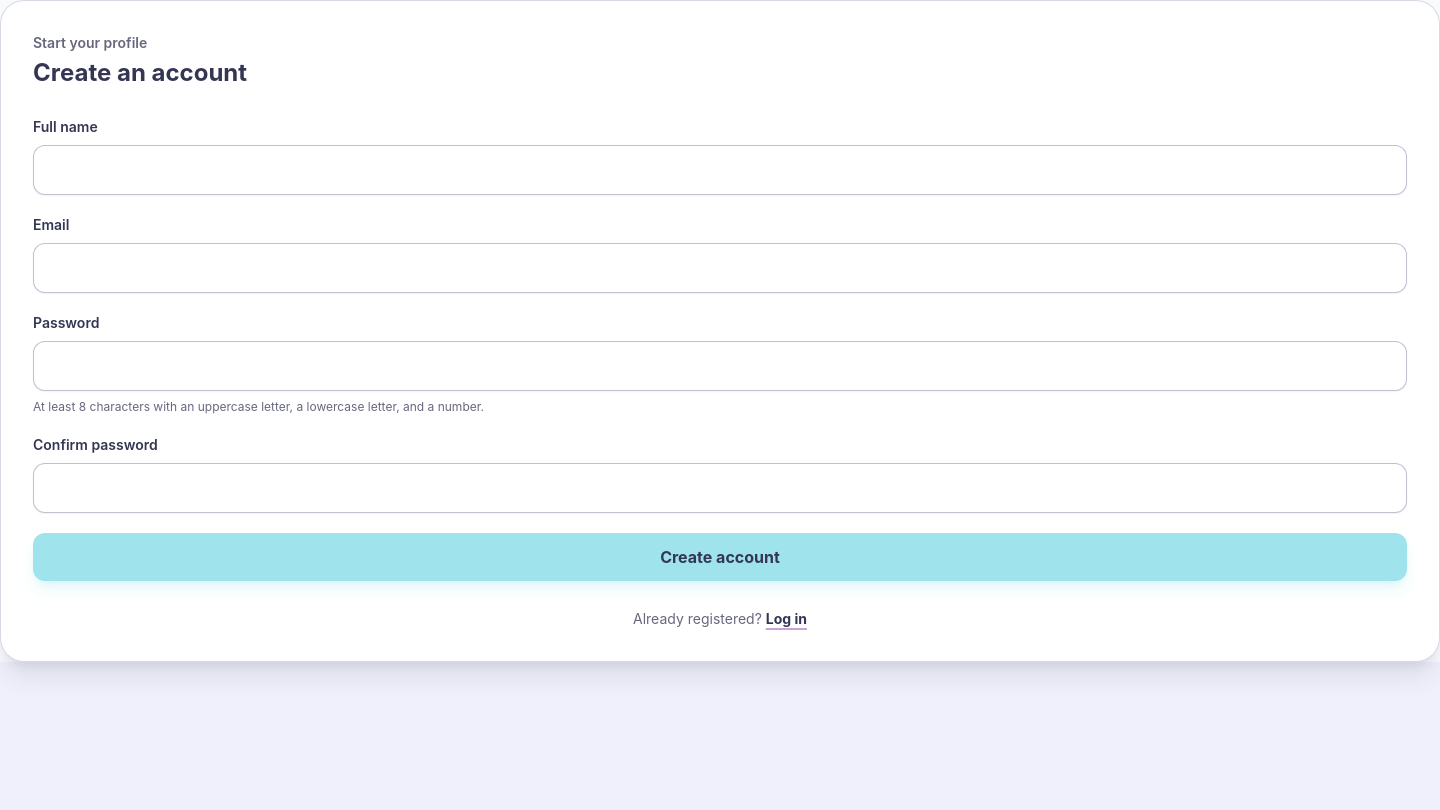
Test: authentication forms › validates signup password rules and confirmation
This screenshot has width=1440, height=810.
In the field labelled "Full name": (720, 170) [33,145,1407,195], type "New Member"
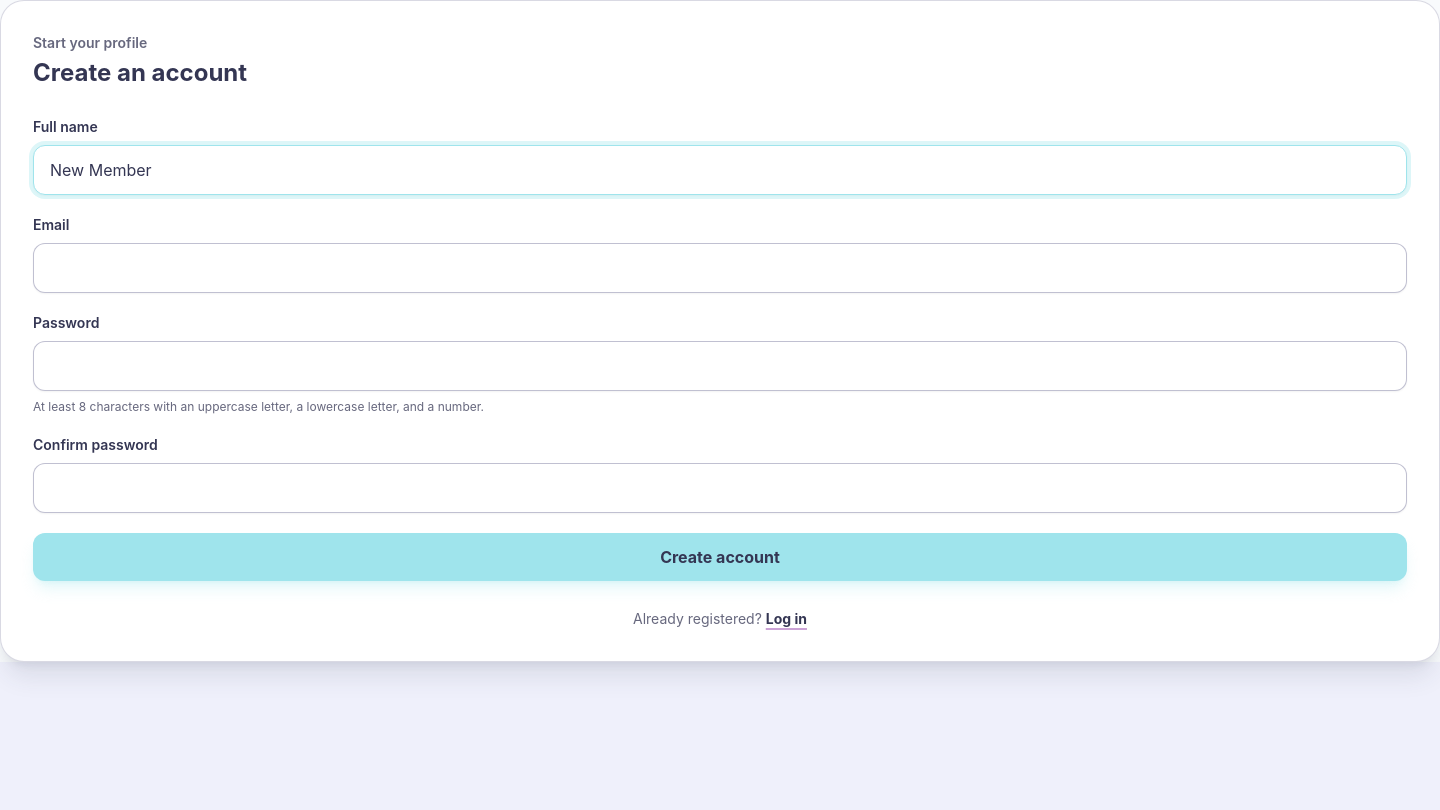
In the field labelled "Email": (720, 268) [33,243,1407,293], type "new@example.test"
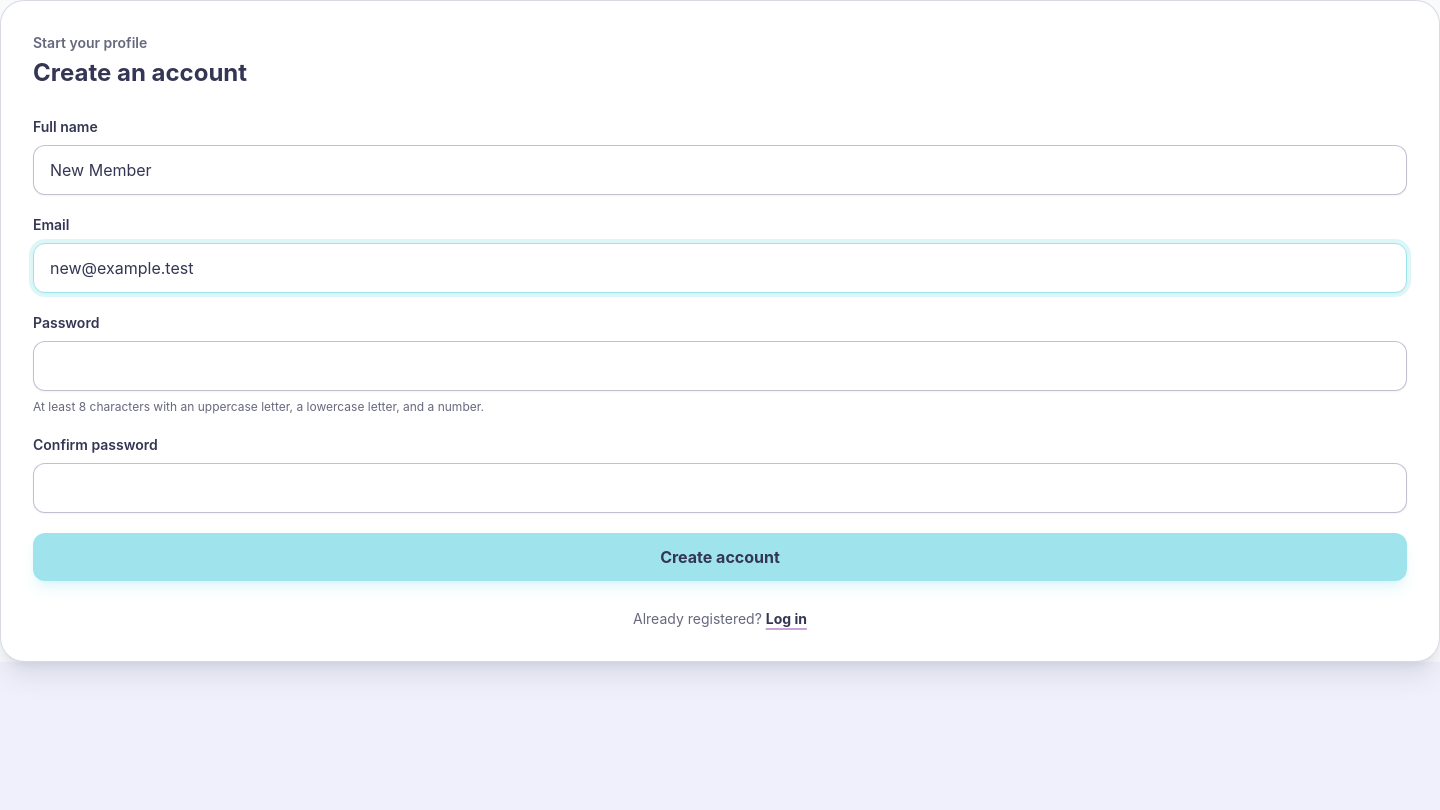
In the password field labelled "Password": (720, 366) [33,341,1407,391], type "weak"
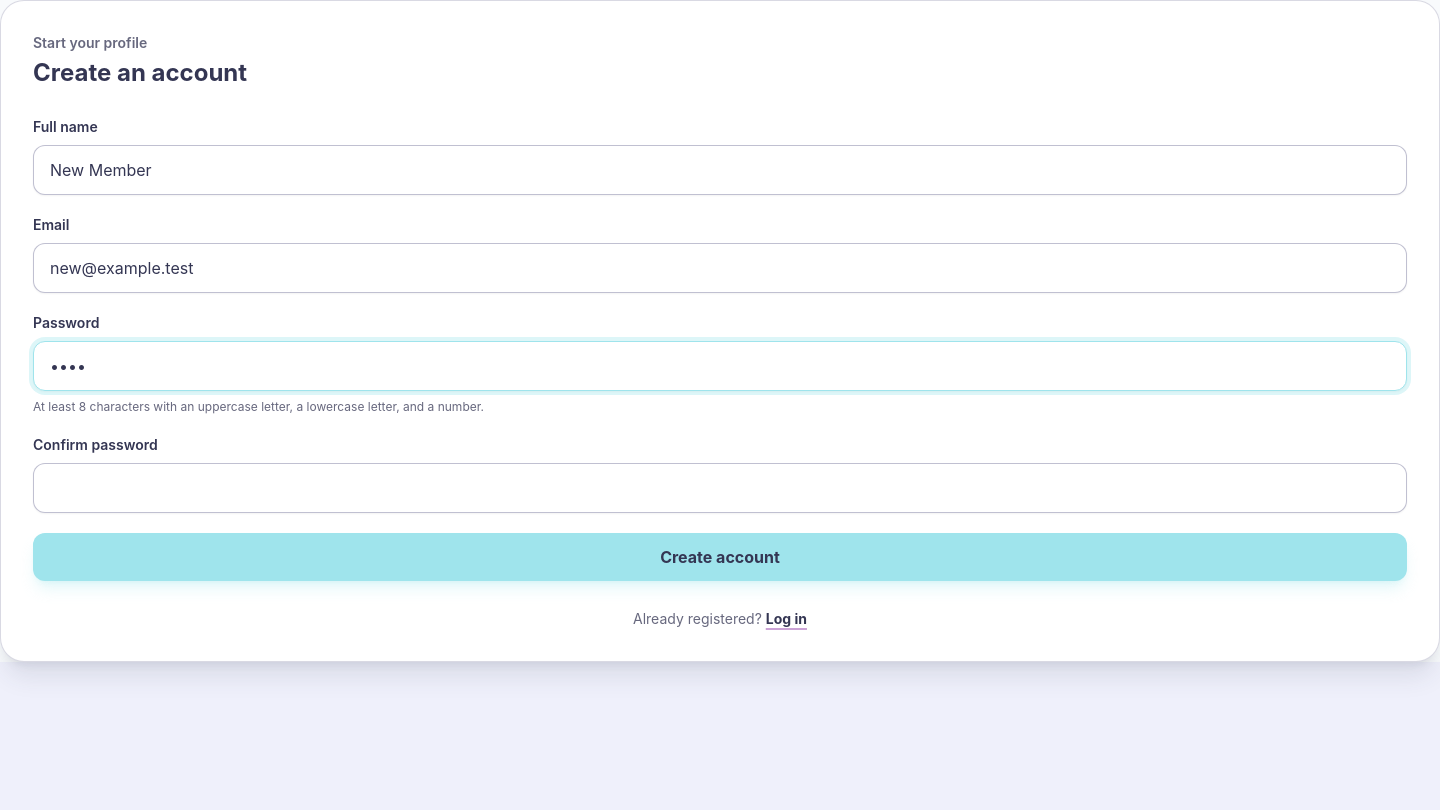
In the password field labelled "Confirm password": (720, 488) [33,463,1407,513], type "different"
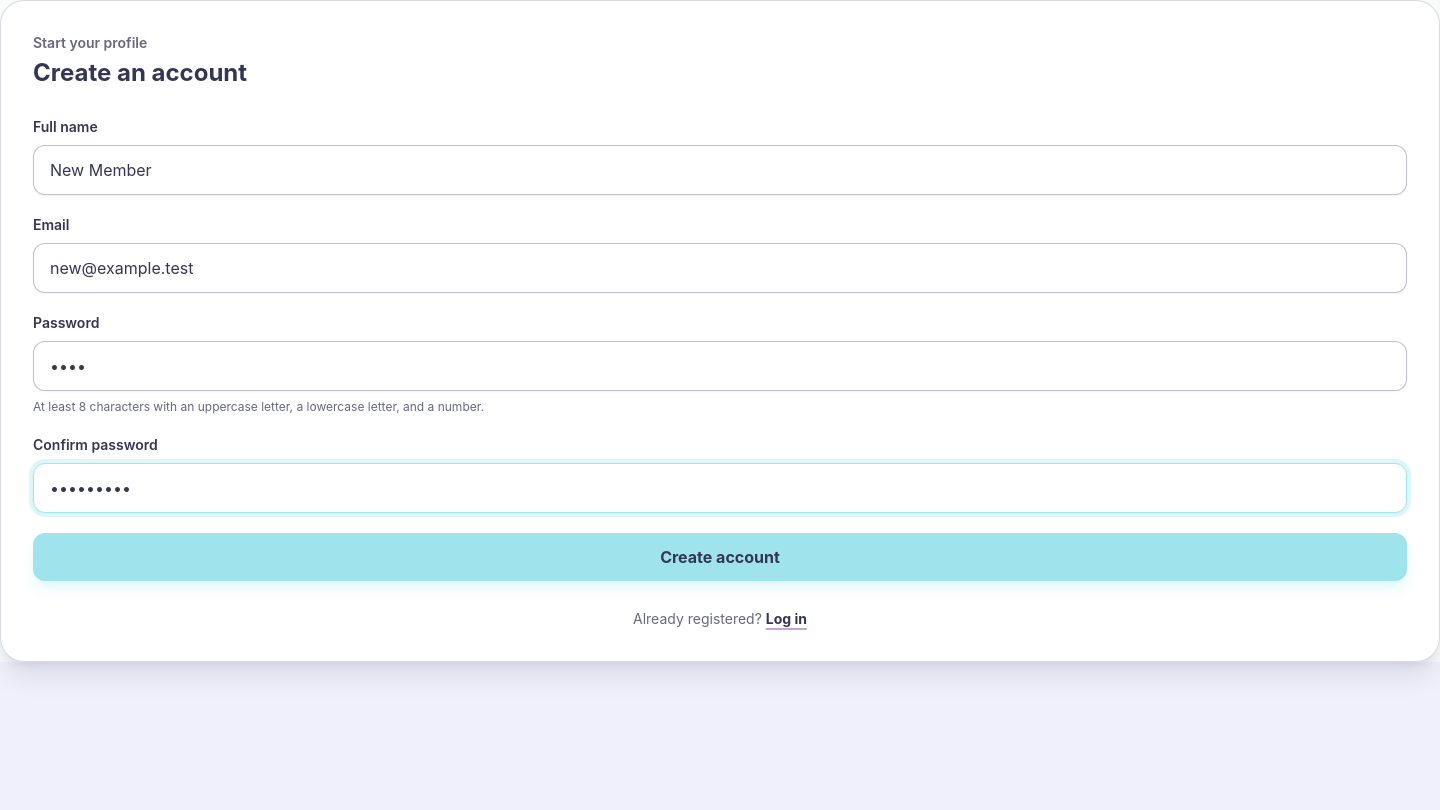
Click the button "Create account": (720, 557) [33,533,1407,581]
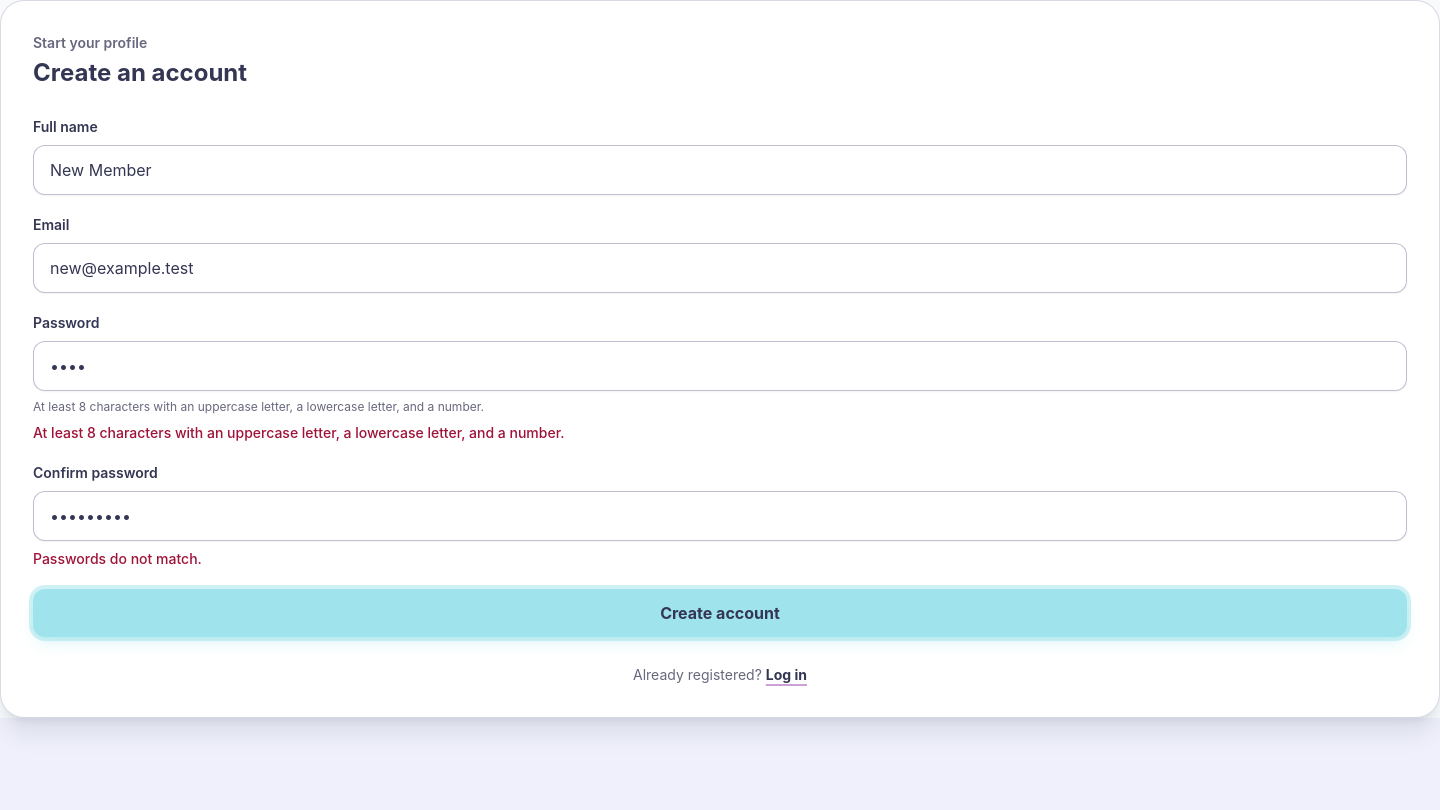
Expected: the 1st text "At least 8 characters" is shown, [33,399,484,414]
Expected: the text "Passwords do not match." is shown, [33,550,202,567]
